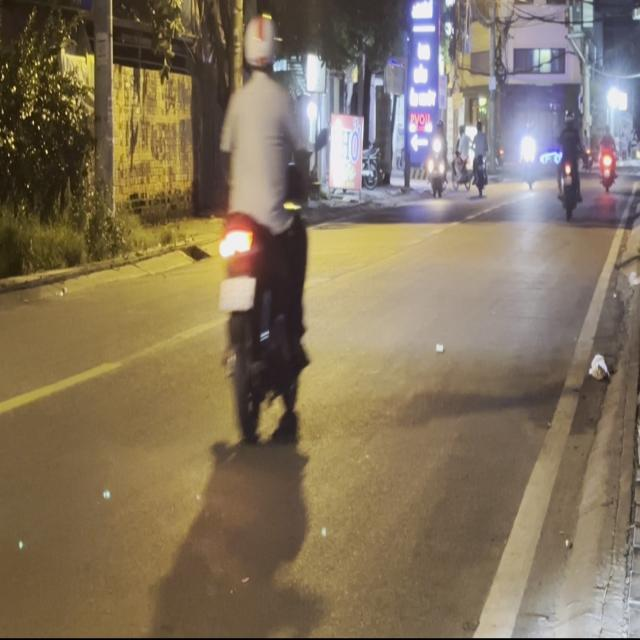helmet: (240, 12, 277, 78)
licenseplate: (212, 11, 315, 443)
nohelmet: (218, 276, 256, 311)
